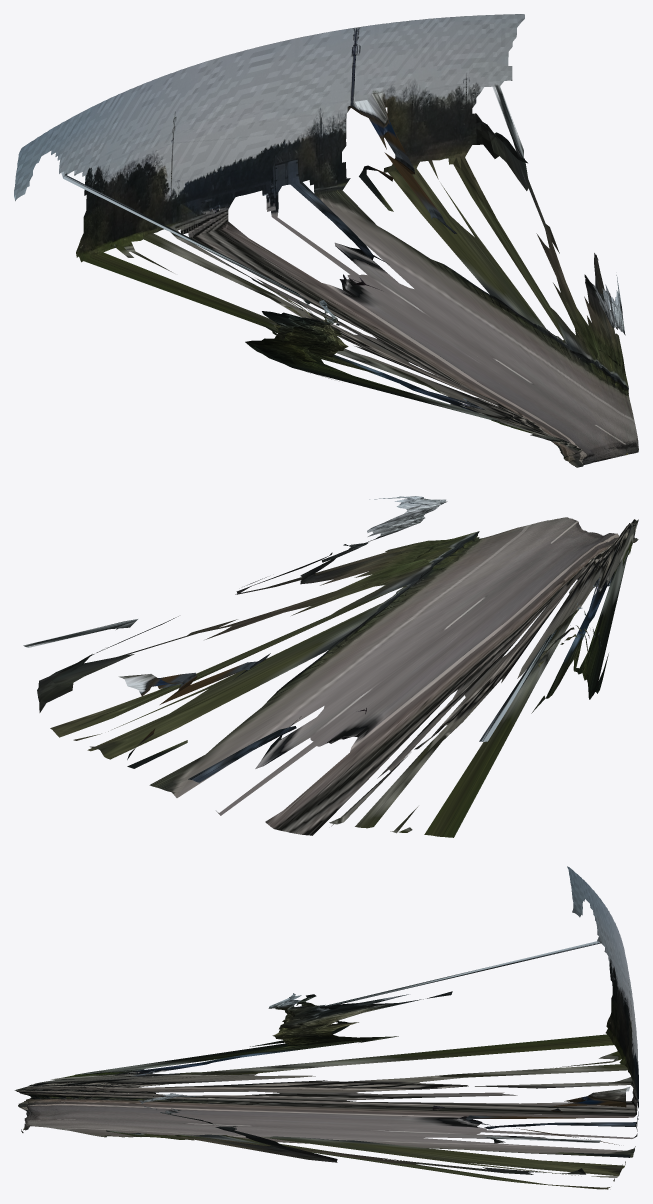
3 views of the same model, one above another, from view 1: azimuth 30°, elevation 25°; view 2: azimuth 150°, elevation 25°; view 3: azimuth 270°, elevation 25° (orthographic). The views are drawn at different scales.
Visible parts, largest first — view 1: defaultobject; view 2: defaultobject; view 3: defaultobject.
Boxes of the visible parts, x1,y1,x2,y2 form: defaultobject: (14,14,638,467); defaultobject: (23,496,638,837); defaultobject: (14,866,638,1189).
Bounding box in the file's own units: 37.89 × 12.47 × 44.98.
Materials: 1 (1 with a texture image).
